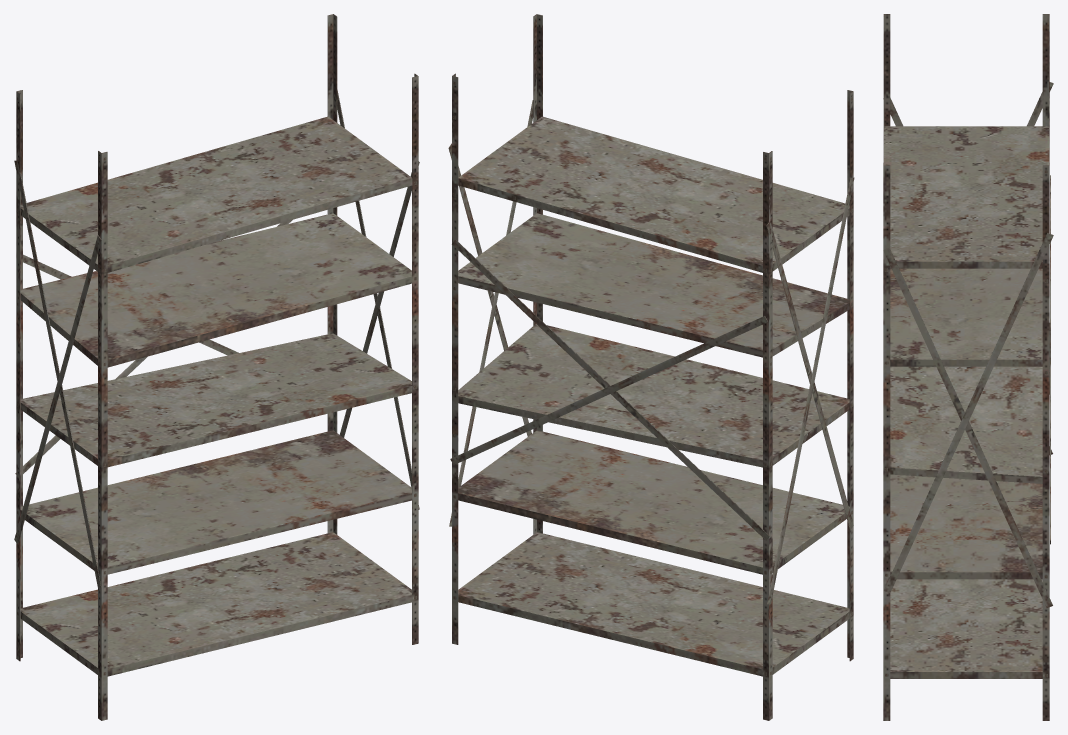
File: 046_ironShelf.fbx
3 views of the same model, side by side, from view 1: azimuth 30°, elevation 25°; view 2: azimuth 150°, elevation 25°; view 3: azimuth 270°, elevation 25° (orthographic). The views are drawn at different scales.
Visible parts, largest first — view 1: LOD_1_Group_0_Sub_1__sm30_046_IronShelf02A_Mat; view 2: LOD_1_Group_0_Sub_1__sm30_046_IronShelf02A_Mat; view 3: LOD_1_Group_0_Sub_1__sm30_046_IronShelf02A_Mat.
Boxes of the visible parts, x1,y1,x2,y2 form: LOD_1_Group_0_Sub_1__sm30_046_IronShelf02A_Mat: (14, 14, 419, 720); LOD_1_Group_0_Sub_1__sm30_046_IronShelf02A_Mat: (448, 14, 854, 720); LOD_1_Group_0_Sub_1__sm30_046_IronShelf02A_Mat: (883, 14, 1053, 720).
Bounding box in the file's own units: 1.52 × 2.57 × 0.7162.
